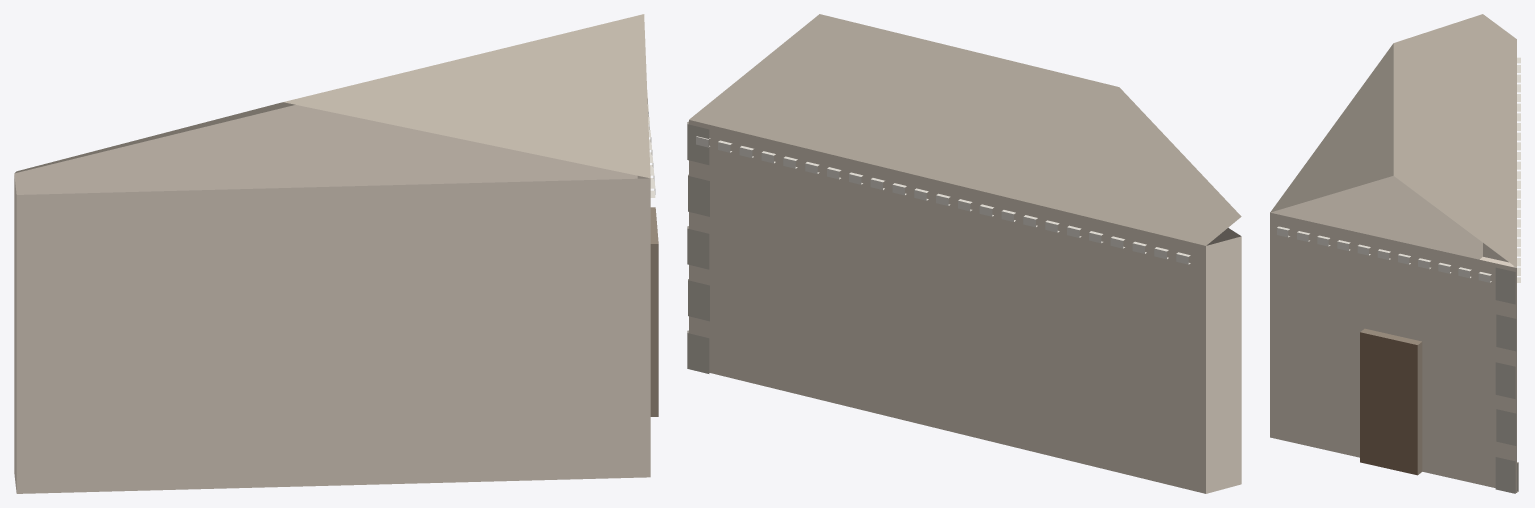
The picture shows the model from 3 angles, left to right: view 1: azimuth 30°, elevation 25°; view 2: azimuth 150°, elevation 25°; view 3: azimuth 270°, elevation 25°; orthographic projection. The views are drawn at different scales.
Visible parts, largest first — view 1: E-2; view 2: E-2; view 3: E-2.
Part boxes in pixels (x1,y1,x2,y2): E-2: (14,14,658,493); E-2: (687,14,1241,493); E-2: (1270,14,1520,493).
Size of the model in its own units: 8.6 by 4.89 by 3.84.
